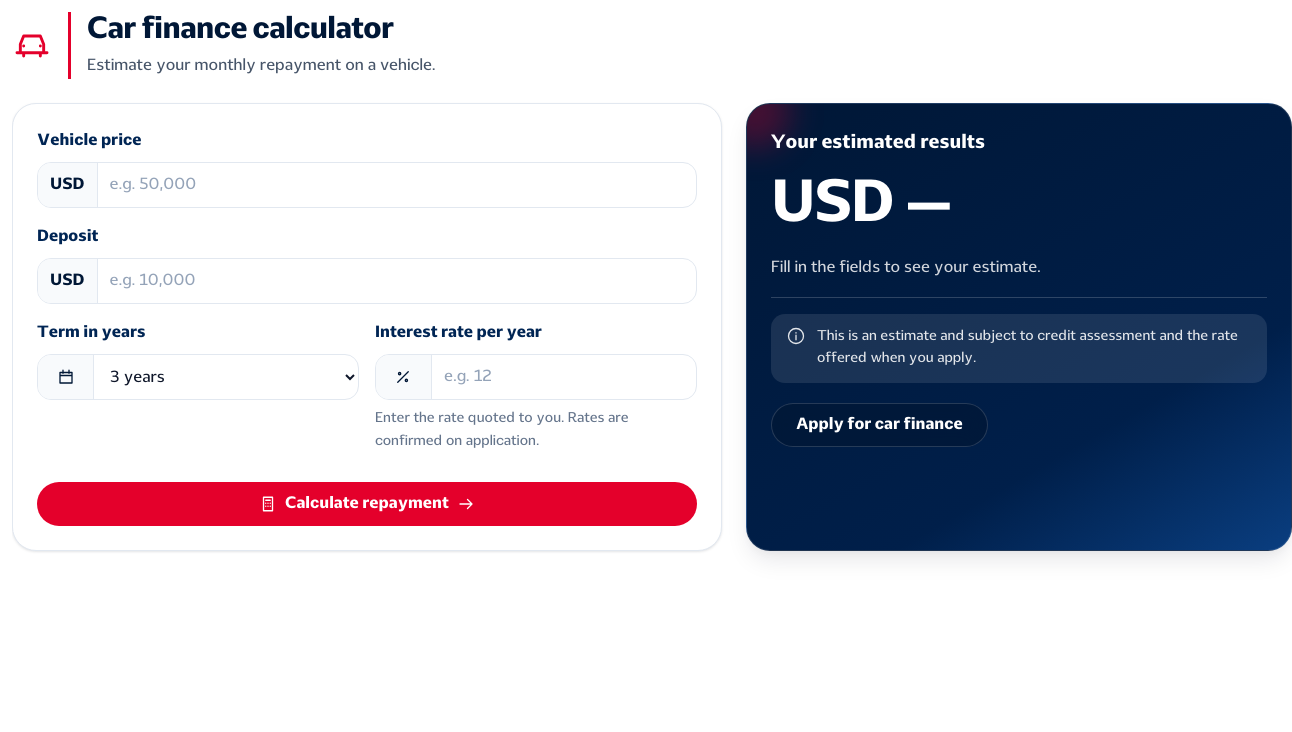
Test: <Calculator> › flags a deposit that covers the price
Type "5000" into the field labelled "Vehicle price" at (397, 185), box [98,163,696,207]
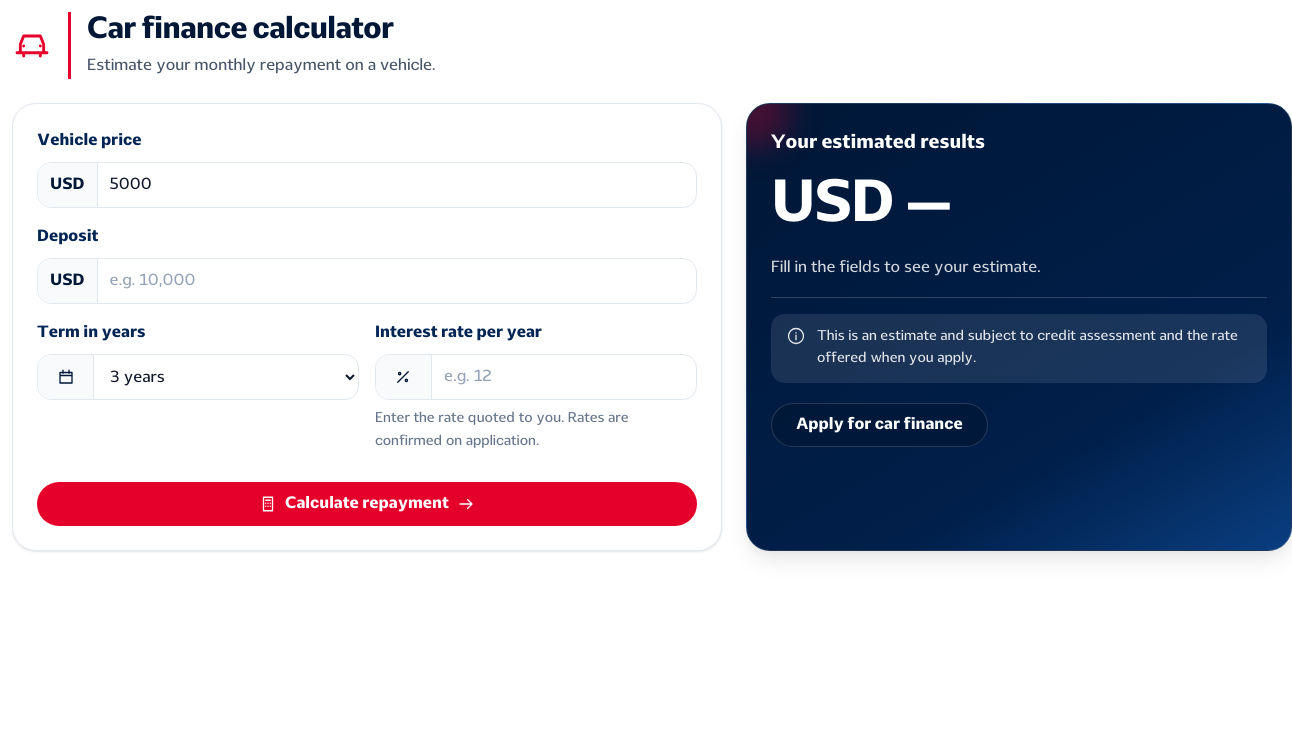
Type "6000" into the field labelled "Deposit" at (397, 281), box [98,259,696,303]
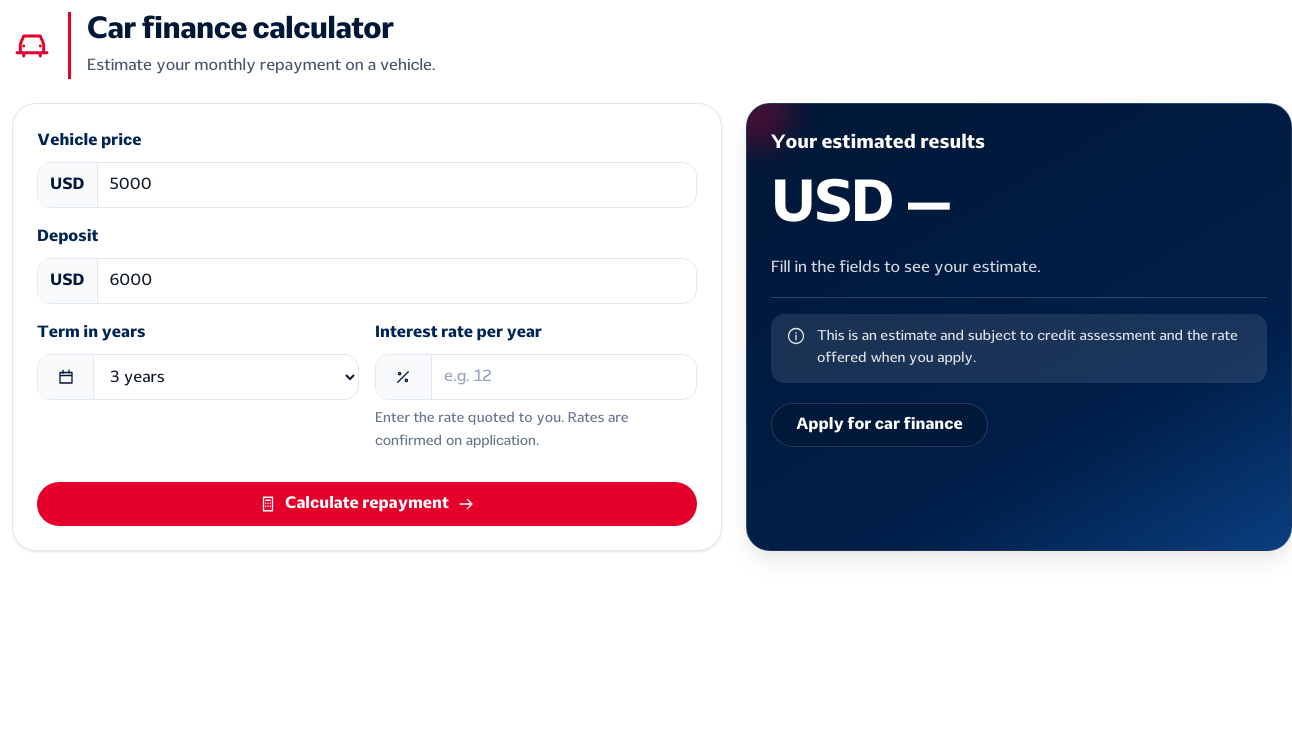
Select "3 years" in the dropdown labelled "Term in years" at (226, 377), box [94,355,358,399]
Type "10" into the field labelled "Interest rate per year" at (564, 377), box [432,355,696,399]
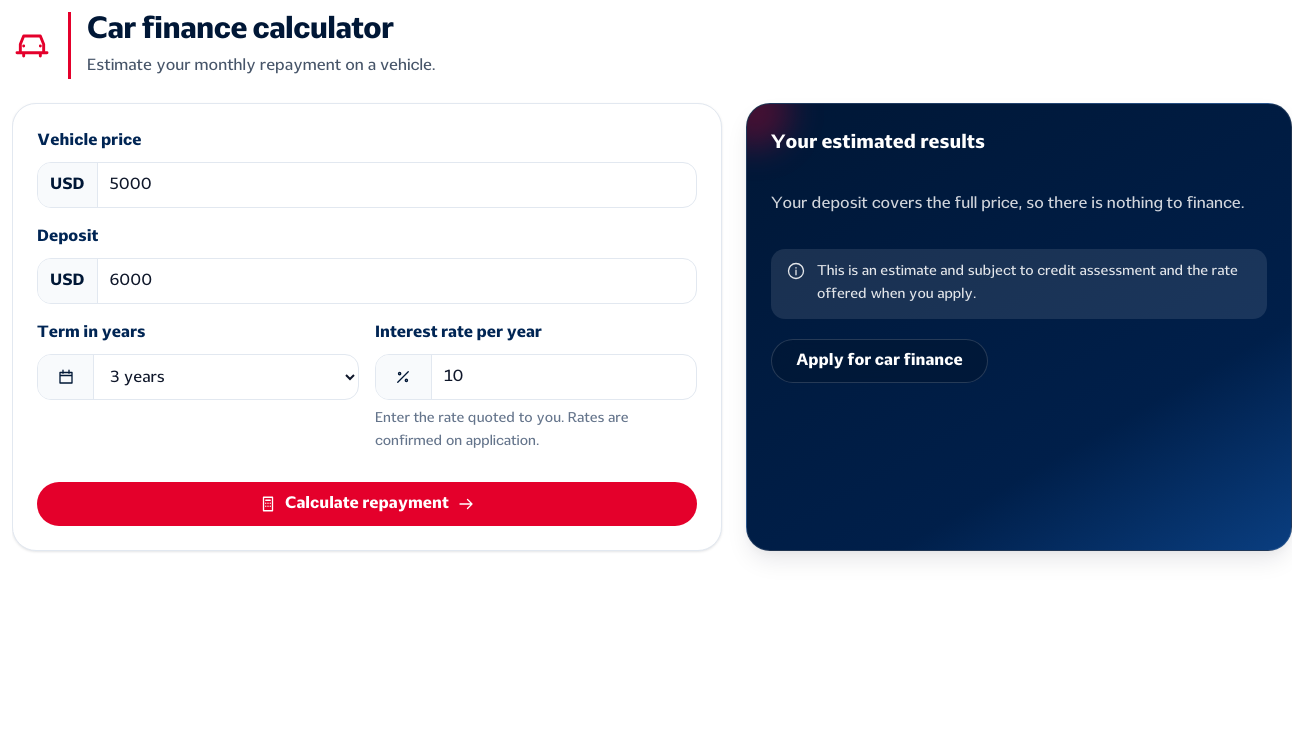
Check: the text "covers the full price" is shown, box [771,195,1245,212]
